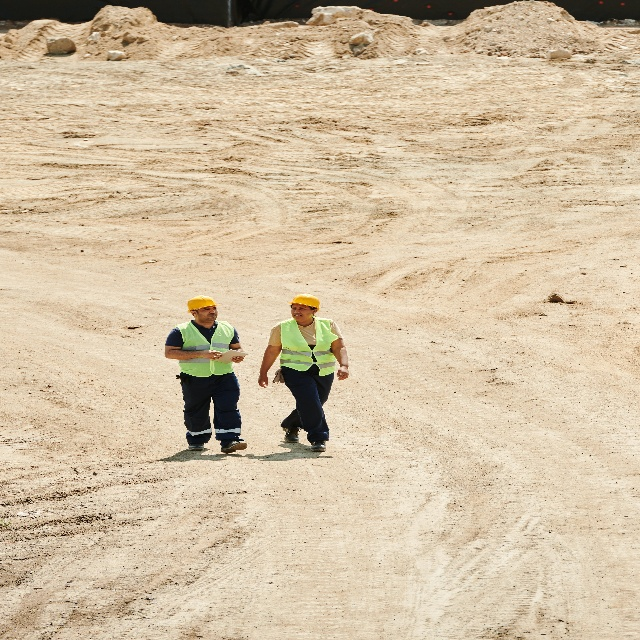Guantes: (176, 371, 190, 386), (272, 368, 283, 386)
Sin_guantes: (204, 347, 223, 363), (337, 364, 349, 381), (257, 373, 268, 390), (230, 354, 243, 365)
